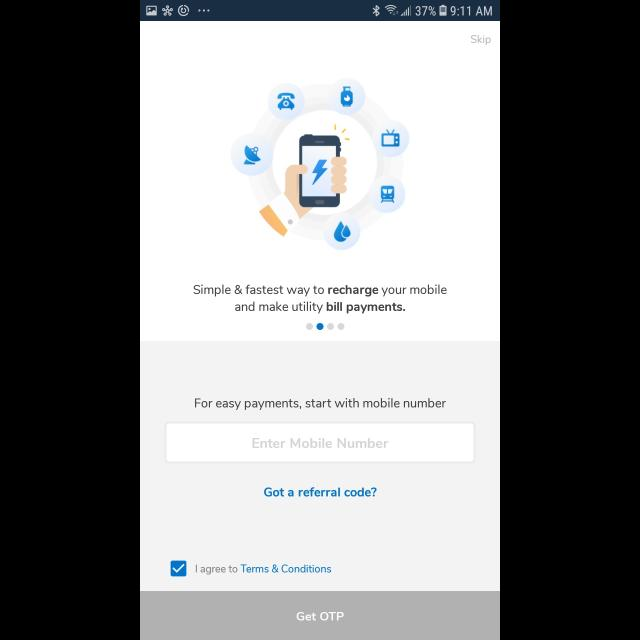checkbox: (170, 560, 186, 576)
image: (230, 78, 410, 250)
input: (164, 422, 476, 464)
pageindicator: (306, 323, 346, 331)
text: (194, 284, 446, 314), (196, 398, 447, 410), (253, 438, 389, 448), (196, 565, 332, 575), (264, 487, 376, 497), (471, 35, 491, 45)
textbutton: (140, 591, 499, 640)
uppertaskbar: (140, 1, 500, 22)
